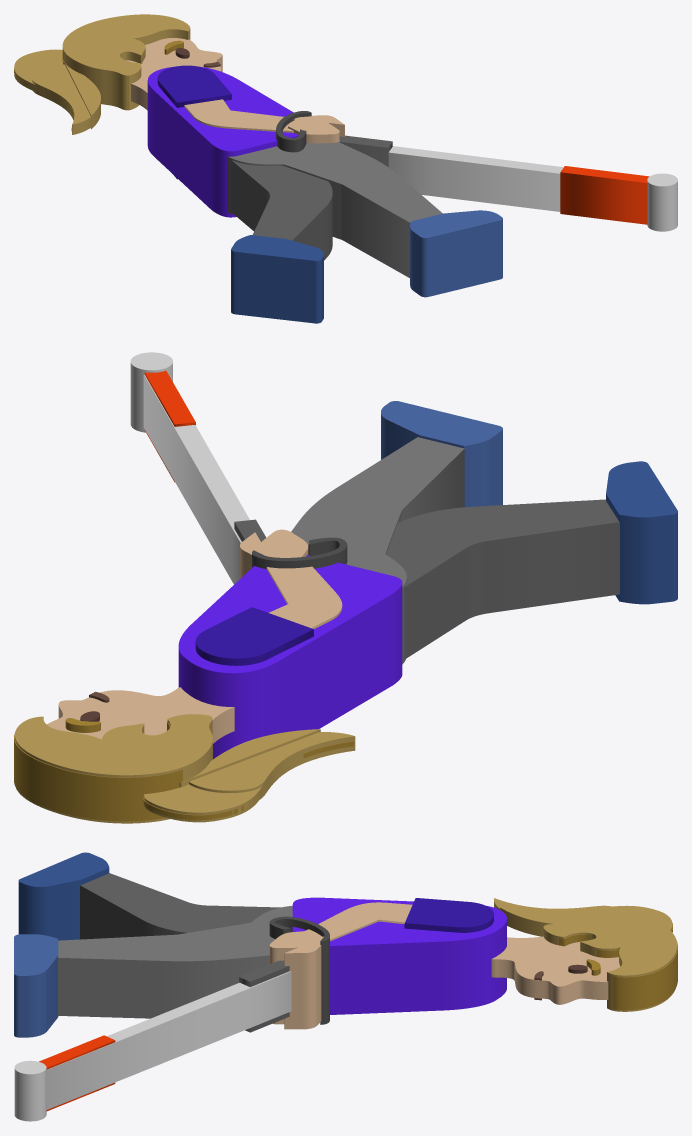
The model's file is emoji_u1f469_1f3fc_200d_1f9af_200d_27a1.glb.
3 views of the same model, one above another, from view 1: azimuth 30°, elevation 25°; view 2: azimuth 150°, elevation 25°; view 3: azimuth 270°, elevation 25° (orthographic). The views are drawn at different scales.
Parts seen in each view (by area): view 1: emoji_u1f469_1f3fc_200d_1f9af_200d_27a1; view 2: emoji_u1f469_1f3fc_200d_1f9af_200d_27a1; view 3: emoji_u1f469_1f3fc_200d_1f9af_200d_27a1.
Boxes of the visible parts, <box> form: emoji_u1f469_1f3fc_200d_1f9af_200d_27a1: <box>14,14,677,323</box>; emoji_u1f469_1f3fc_200d_1f9af_200d_27a1: <box>14,352,677,823</box>; emoji_u1f469_1f3fc_200d_1f9af_200d_27a1: <box>14,852,677,1121</box>.
Bounding box in the file's own units: 0.0251 × 0.0046 × 0.0332.
